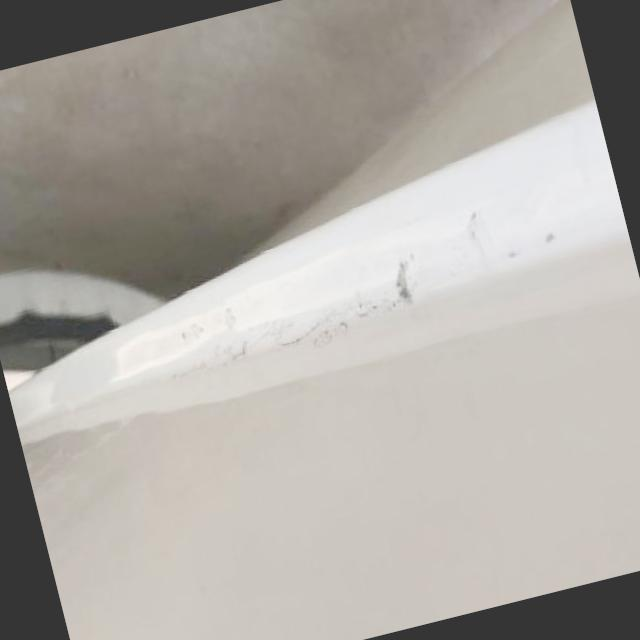crack: (190, 280, 419, 371)
